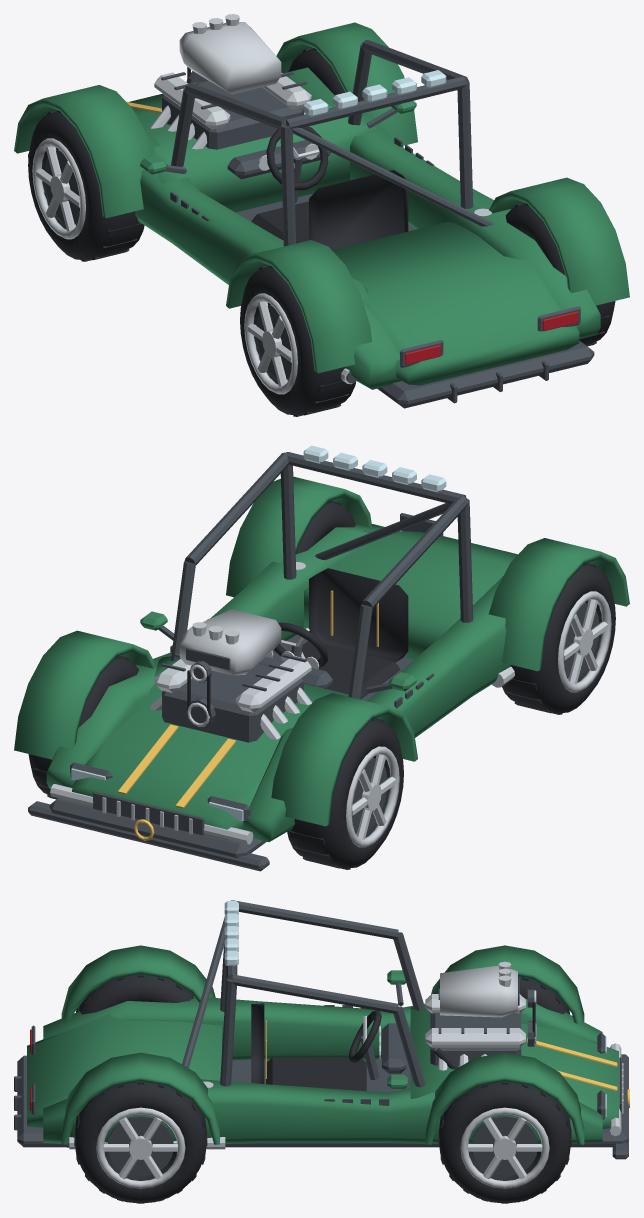
Rendered from dunehauler.fbx.
The picture shows the model from 3 angles, top to bottom: view 1: azimuth 30°, elevation 25°; view 2: azimuth 150°, elevation 25°; view 3: azimuth 270°, elevation 25°; orthographic projection. The views are drawn at different scales.
Visible parts, largest first — view 1: PaintBody, DarkDetails, WheelFL, WheelRL, Interior, EngineIntake, MetalDetails, WheelRR, HeadlampLenses, WheelFR, TailLampLenses; view 2: PaintBody, DarkDetails, WheelFL, Interior, WheelRL, MetalDetails, EngineIntake, HeadlampLenses, AccentTrim, WheelFR, WheelRR; view 3: PaintBody, DarkDetails, WheelFR, WheelRR, Interior, MetalDetails, EngineIntake, WheelRL, HeadlampLenses, AccentTrim, WheelFL.
Boxes of the visible parts, box(x1,y1,x2,y2) form: PaintBody: box(14, 22, 629, 389); DarkDetails: box(28, 40, 594, 408); WheelFL: box(28, 110, 144, 261); WheelRL: box(240, 265, 355, 416); Interior: box(187, 67, 408, 249); EngineIntake: box(179, 22, 281, 94); MetalDetails: box(150, 72, 491, 384); WheelRR: box(505, 203, 615, 346); HeadlampLenses: box(303, 70, 446, 116); WheelFR: box(288, 47, 403, 147); TailLampLenses: box(405, 311, 578, 364); PaintBody: box(14, 476, 629, 841); DarkDetails: box(28, 452, 473, 871); WheelFL: box(287, 718, 403, 869); Interior: box(187, 568, 408, 719); WheelRL: box(502, 563, 615, 714); MetalDetails: box(50, 562, 514, 844); EngineIntake: box(179, 609, 281, 675); HeadlampLenses: box(71, 445, 446, 821); AccentTrim: box(118, 590, 378, 840); WheelFR: box(28, 656, 138, 799); WheelRR: box(296, 500, 355, 554); PaintBody: box(27, 945, 618, 1144); DarkDetails: box(14, 900, 628, 1159); WheelFR: box(438, 1081, 571, 1203); WheelRR: box(74, 1081, 207, 1203); Interior: box(251, 1002, 535, 1090); MetalDetails: box(69, 990, 623, 1149); EngineIntake: box(440, 965, 517, 1017); WheelRL: box(76, 974, 193, 1014); HeadlampLenses: box(224, 901, 606, 1117); AccentTrim: box(265, 1020, 629, 1107); WheelFL: box(518, 976, 569, 1014).
Size of the model in its own units: 485 by 363 by 947.
